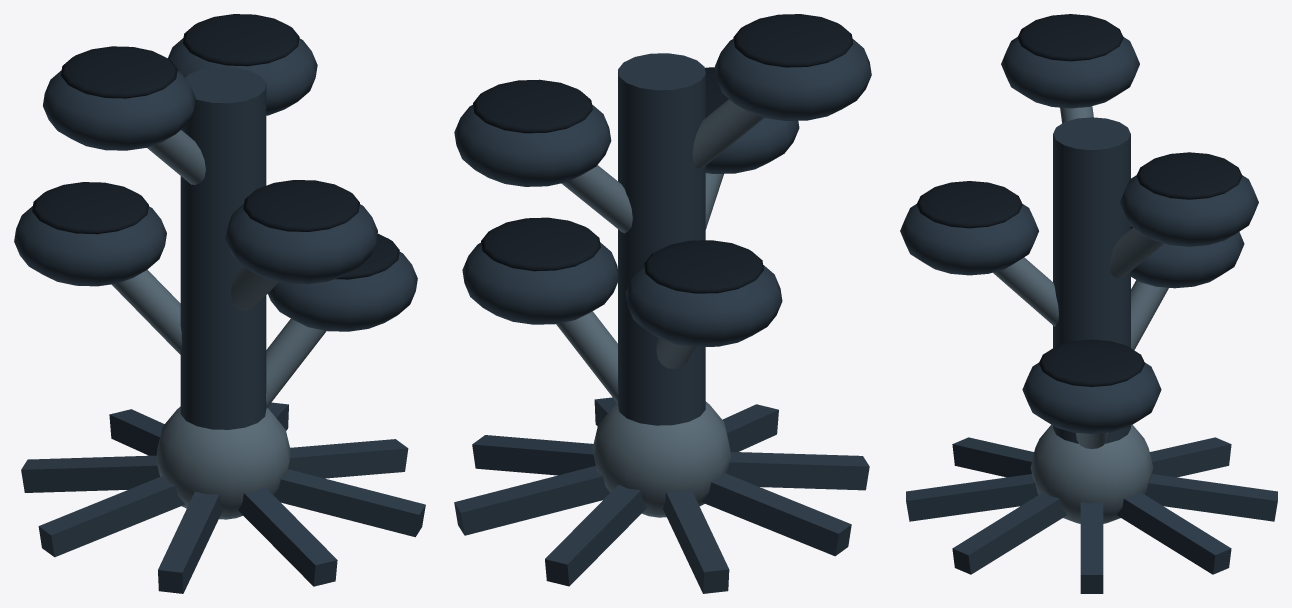
File: CMU3DHiveHiveClusterXenoConstructionNode.glb
3 renders of one model, left to right at view 1: azimuth 30°, elevation 25°; view 2: azimuth 150°, elevation 25°; view 3: azimuth 270°, elevation 25°, orthographic. The views are drawn at different scales.
Visible parts, largest first — view 1: fluted hive chimney (×5), anchoring root (×7), central branching trunk, dark chimney throat (×5), construction bud, raised organ branch (×4); view 2: fluted hive chimney (×5), anchoring root (×7), central branching trunk, dark chimney throat (×5), construction bud, raised organ branch (×5); view 3: fluted hive chimney (×5), anchoring root (×7), central branching trunk, dark chimney throat (×4), construction bud, raised organ branch (×3).
Boxes of the visible parts, <box> form: fluted hive chimney (×5): <box>14,38,417,331</box>; anchoring root (×7): <box>21,409,425,593</box>; central branching trunk: <box>180,67,266,429</box>; dark chimney throat (×5): <box>32,14,399,279</box>; construction bud: <box>156,406,290,519</box>; raised organ branch (×4): <box>111,130,326,408</box>; fluted hive chimney (×5): <box>454,38,871,347</box>; anchoring root (×7): <box>454,404,869,593</box>; central branching trunk: <box>618,53,705,425</box>; dark chimney throat (×5): <box>473,14,853,293</box>; construction bud: <box>592,401,731,517</box>; raised organ branch (×5): <box>556,99,763,403</box>; fluted hive chimney (×5): <box>900,37,1258,433</box>; anchoring root (×7): <box>906,437,1277,593</box>; central branching trunk: <box>1053,117,1130,443</box>; dark chimney throat (×4): <box>916,14,1242,386</box>; construction bud: <box>1030,424,1153,523</box>; raised organ branch (×3): <box>993,227,1168,350</box>.
Size of the model in its own units: 0.9354 by 1.18 by 0.9231.
